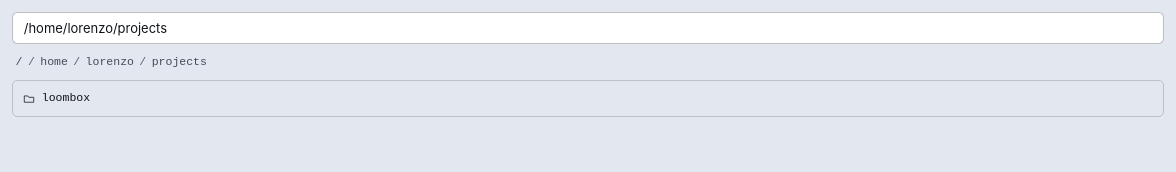
Test: DirectoryPicker (SPEC §7.25 directory picker; issue #474) › clicking a breadcrumb segment navigates back up to it
The image size is (1176, 172).
Expected: the text "loombox" is shown, [42,88,90,109]
Note: segments: ['/', 'home', 'lorenzo', 'projects'] — click "home".
What coordinates should you click on to do the following:
click the button with test id "directory-picker-breadcrumb-segment" showing "home"
I would click on:
 (54, 62)
Its box is [37,50,71,74].
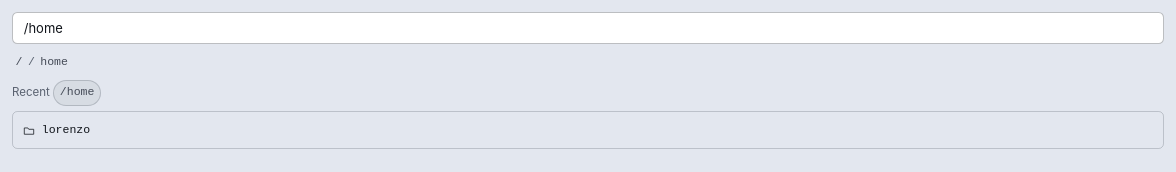
Result: the text "lorenzo" is shown at [42,120,90,141]
